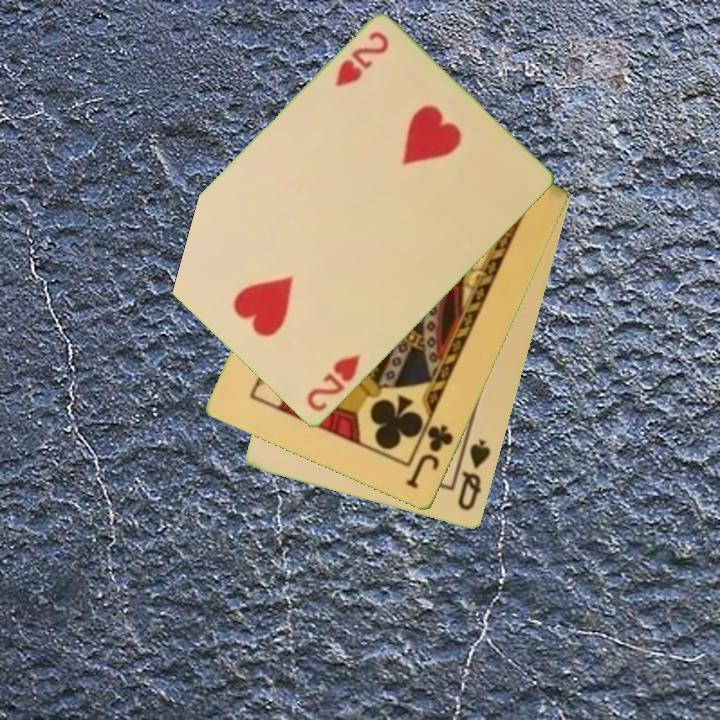2h: (303, 351, 364, 415), (331, 28, 392, 90)
Jc: (403, 421, 457, 493)
Qs: (454, 436, 494, 514)
